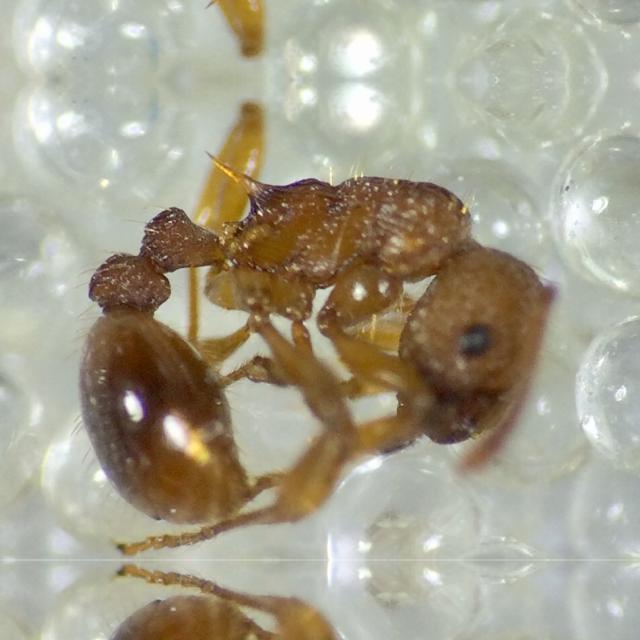Myrmica: (44, 97, 586, 541)
